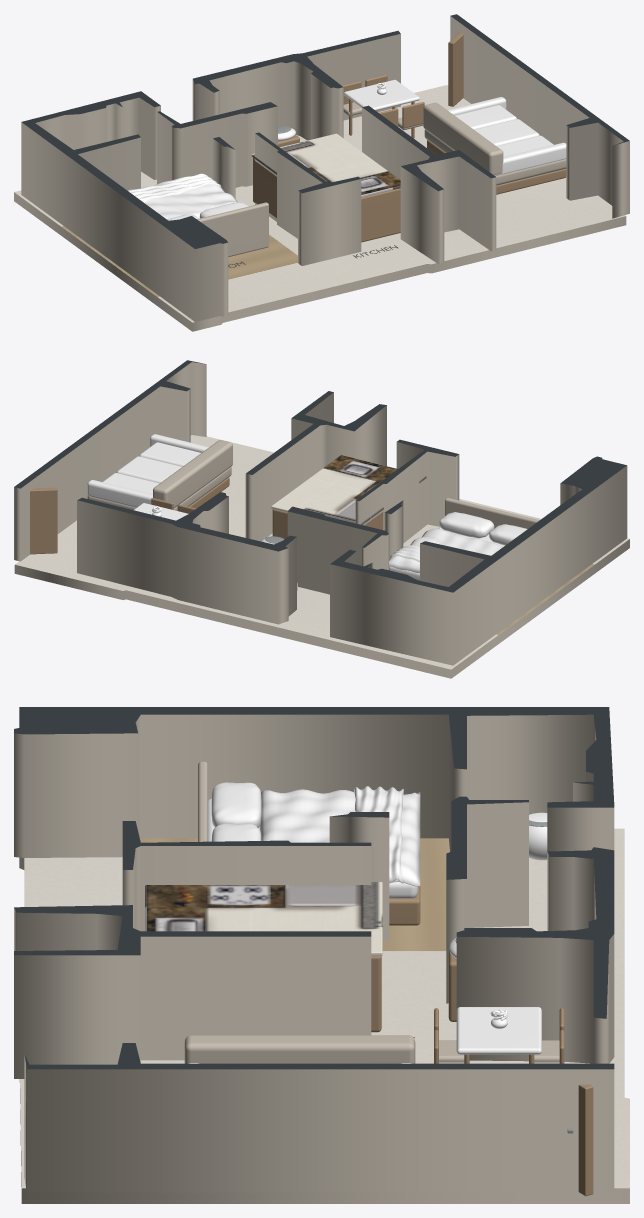
Rendered from opal-group-unit-08.glb.
3 views of the same model, one above another, from view 1: azimuth 30°, elevation 25°; view 2: azimuth 150°, elevation 25°; view 3: azimuth 270°, elevation 25° (orthographic). The views are drawn at different scales.
Visible parts, largest first — view 1: Partition walls, Apartment floor, Stone worktop, Kitchen cabinets, Sofa back, Upholstered headboard, Draped bed linen, Marble dining top, Padded armrest, Draped bed linen.001, Open oak door, Seat cushion.001 (+6 smaller); view 2: Partition walls, Apartment floor, Stone worktop, Sofa back, Open oak door, Draped bed linen, Upholstered headboard, Padded armrest.001, Tailored pillow.001, Seat cushion.001, Seat cushion, Upholstered sofa frame (+4 smaller); view 3: Partition walls, Apartment floor, Stone worktop, Sofa back, Draped bed linen, Marble dining top, Tailored pillow, Draped bed linen.001, Open oak door, Walnut upholstered base, Kitchen cabinets, Tailored pillow.001 (+1 smaller).
Boxes of the visible parts, x1,y1,x2,y2 form: Partition walls: (21,14,629,321); Apartment floor: (14,85,626,331); Stone worktop: (251,133,400,197); Kitchen cabinets: (253,158,400,242); Sofa back: (423,102,503,175); Upholstered headboard: (197,202,268,256); Draped bed linen: (128,174,239,219); Marble dining top: (343,79,419,110); Padded armrest: (494,142,566,176); Draped bed linen.001: (129,173,221,202); Open oak door: (448,32,463,106); Seat cushion.001: (474,119,539,146); Partition walls: (14,360,627,665); Apartment floor: (14,435,629,678); Stone worktop: (271,455,426,524); Sofa back: (153,440,232,508); Open oak door: (30,487,57,554); Draped bed linen: (389,528,503,573); Upholstered headboard: (445,498,539,528); Padded armrest.001: (87,480,152,507); Tailored pillow.001: (439,512,494,538); Seat cushion.001: (116,456,181,483); Seat cushion: (139,442,200,466); Upholstered sofa frame: (87,466,231,510); Partition walls: (14,707,614,1192); Apartment floor: (19,828,629,1203); Stone worktop: (145,882,382,956); Sofa back: (184,1035,415,1063); Draped bed linen: (259,789,420,886); Marble dining top: (456,1007,541,1054); Tailored pillow: (211,782,261,827); Draped bed linen.001: (354,786,403,883); Open oak door: (578,1084,593,1196); Walnut upholstered base: (389,886,420,925); Kitchen cabinets: (371,956,381,1032); Tailored pillow.001: (211,823,261,841).
Size of the model in its own units: 8.17 by 1.44 by 5.78.
Materials: 12 (2 with a texture image).
